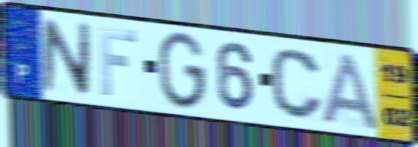6: (215, 40, 257, 114)
A: (319, 50, 382, 132)
C: (268, 46, 326, 122)
F: (97, 25, 140, 98)
G: (157, 30, 208, 113)
N: (40, 16, 93, 99)
